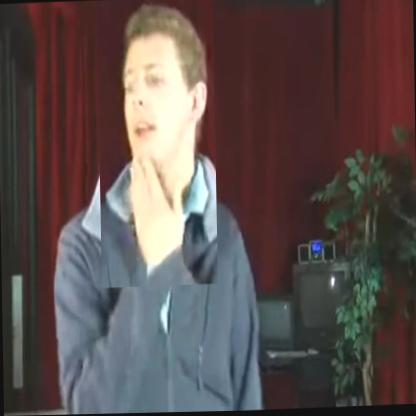ThankYou: (96, 0, 218, 288)
